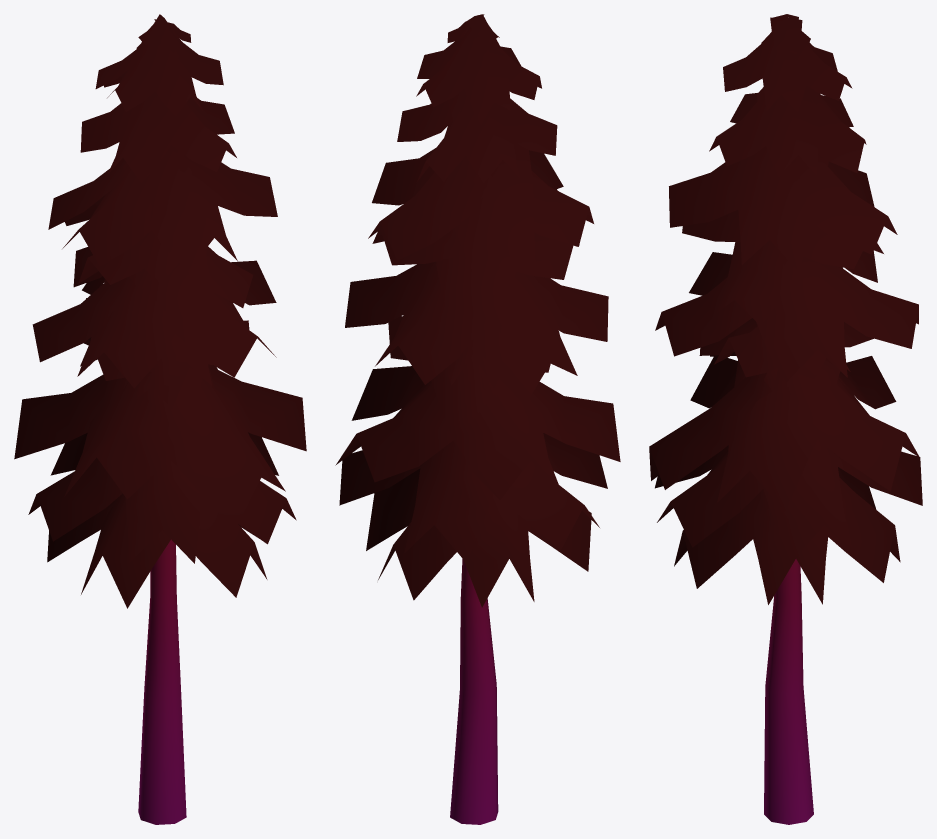
File: pine-3.glb
3 views of the same model, side by side, from view 1: azimuth 30°, elevation 25°; view 2: azimuth 150°, elevation 25°; view 3: azimuth 270°, elevation 25° (orthographic).
Parts seen in each view (by area): view 1: SM_Tree_Pine_Large_01; view 2: SM_Tree_Pine_Large_01; view 3: SM_Tree_Pine_Large_01.
Part boxes in pixels (<box>): SM_Tree_Pine_Large_01: <box>14,14,306,824</box>; SM_Tree_Pine_Large_01: <box>335,14,620,824</box>; SM_Tree_Pine_Large_01: <box>649,14,922,824</box>.
Bounding box in the file's own units: 2.44 × 7.55 × 2.34.
Materials: 2 (1 with a texture image).
